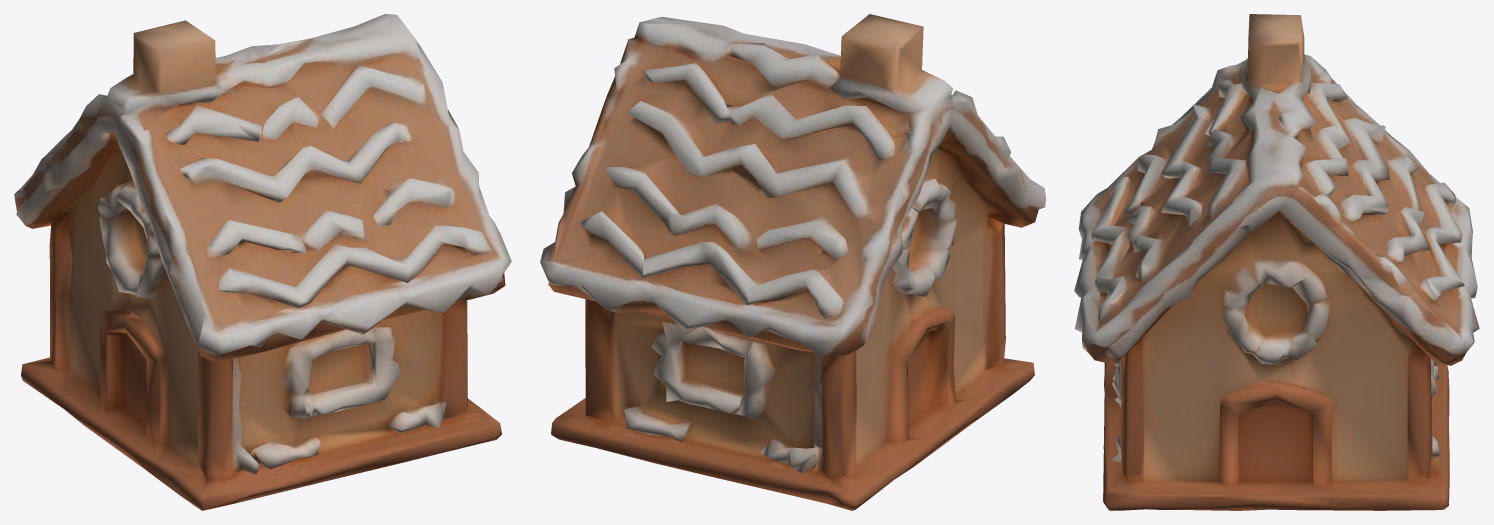
Rendered from gingerbread-house.glb.
The picture shows the model from 3 angles, left to right: view 1: azimuth 30°, elevation 25°; view 2: azimuth 150°, elevation 25°; view 3: azimuth 270°, elevation 25°; orthographic projection. The views are drawn at different scales.
Parts seen in each view (by area): view 1: tripo_node_3404b4ec-4467-451a-9e1d-a648b9615be0; view 2: tripo_node_3404b4ec-4467-451a-9e1d-a648b9615be0; view 3: tripo_node_3404b4ec-4467-451a-9e1d-a648b9615be0.
Part boxes in pixels (left/top/right/bottom): tripo_node_3404b4ec-4467-451a-9e1d-a648b9615be0: left=14, top=14, right=511, bottom=510; tripo_node_3404b4ec-4467-451a-9e1d-a648b9615be0: left=540, top=14, right=1045, bottom=510; tripo_node_3404b4ec-4467-451a-9e1d-a648b9615be0: left=1074, top=14, right=1479, bottom=510.
Bounding box in the file's own units: 0.8347 × 1 × 0.9698.
Materials: 1 (1 with a texture image).
